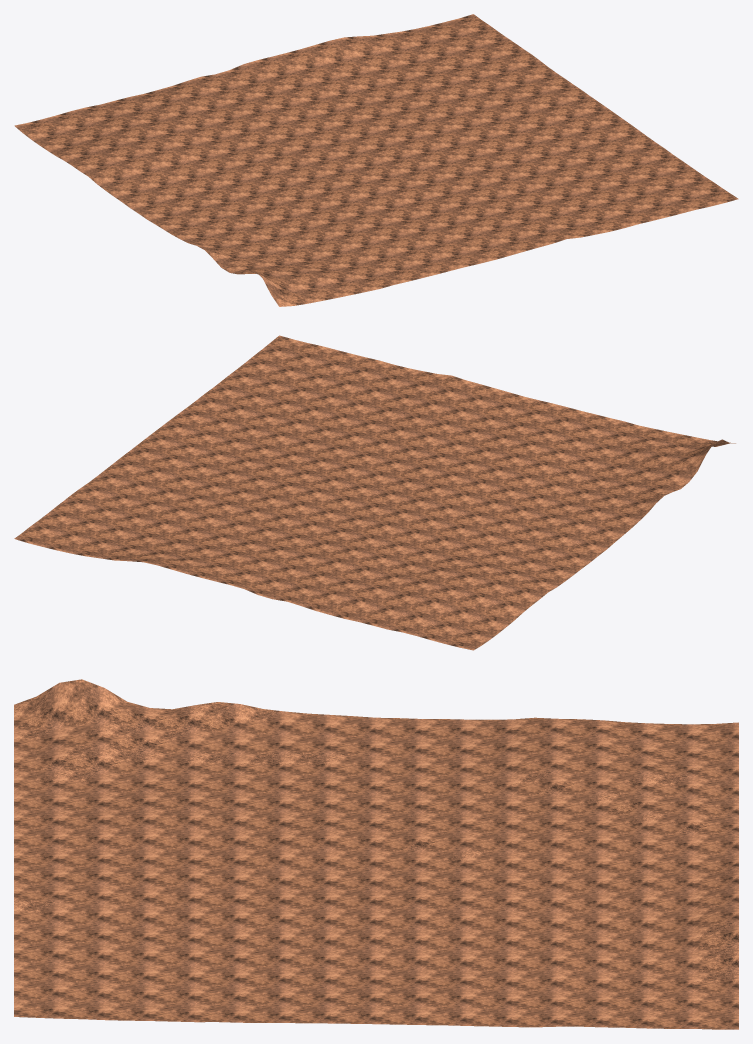
The model's file is terrain_00_08.dae.
3 renders of one model, top to bottom at view 1: azimuth 30°, elevation 25°; view 2: azimuth 150°, elevation 25°; view 3: azimuth 270°, elevation 25°, orthographic. The views are drawn at different scales.
Parts seen in each view (by area): view 1: terrain_00_08-node; view 2: terrain_00_08-node; view 3: terrain_00_08-node.
Boxes of the visible parts, bbox=[...] form: terrain_00_08-node: bbox=[14, 14, 738, 306]; terrain_00_08-node: bbox=[14, 335, 735, 650]; terrain_00_08-node: bbox=[14, 679, 738, 1029].
Size of the model in its own units: 128 by 128 by 8.83.
Materials: 1 (1 with a texture image).
